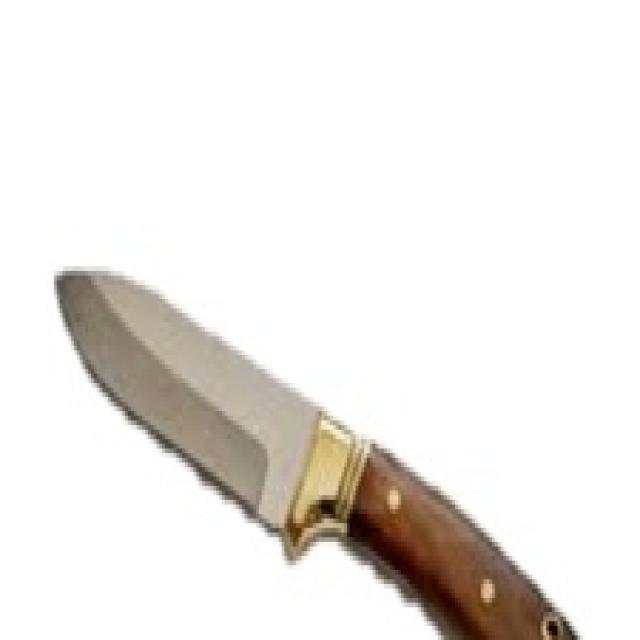knife: (54, 254, 586, 640)
